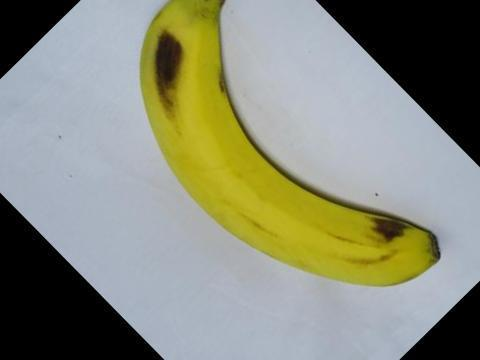freshripe: (128, 0, 448, 291)
